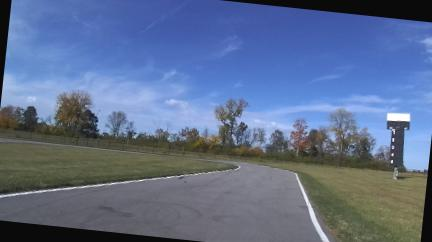Grass: (268, 164, 426, 241), (0, 143, 235, 193), (0, 144, 231, 192)
Lane: (0, 163, 321, 241)
